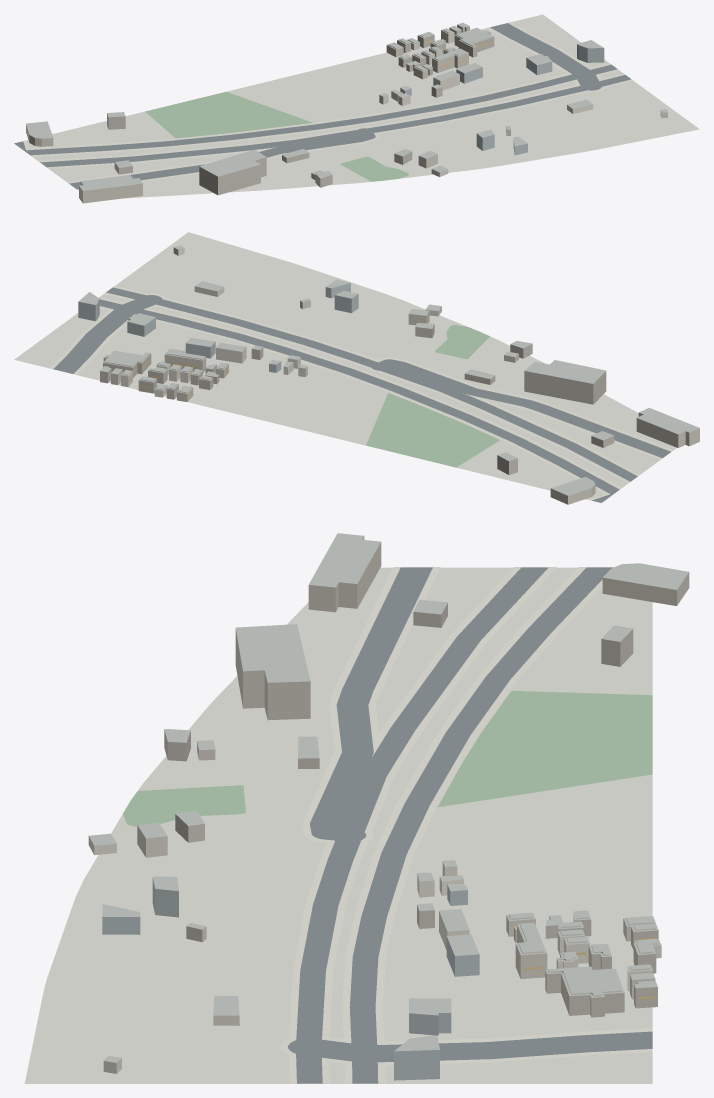
3 views of the same model, one above another, from view 1: azimuth 30°, elevation 25°; view 2: azimuth 150°, elevation 25°; view 3: azimuth 270°, elevation 25° (orthographic). The views are drawn at different scales.
Visible parts, largest first — view 1: city; view 2: city; view 3: city.
Part boxes in pixels (x1,y1,x2,y2): city: (14,14,699,203); city: (14,232,699,504); city: (24,533,689,1083).
Size of the model in its own units: 509 by 16.9 by 272.
